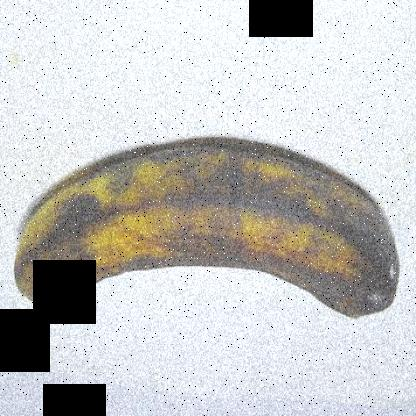overripe: (4, 127, 415, 334)
